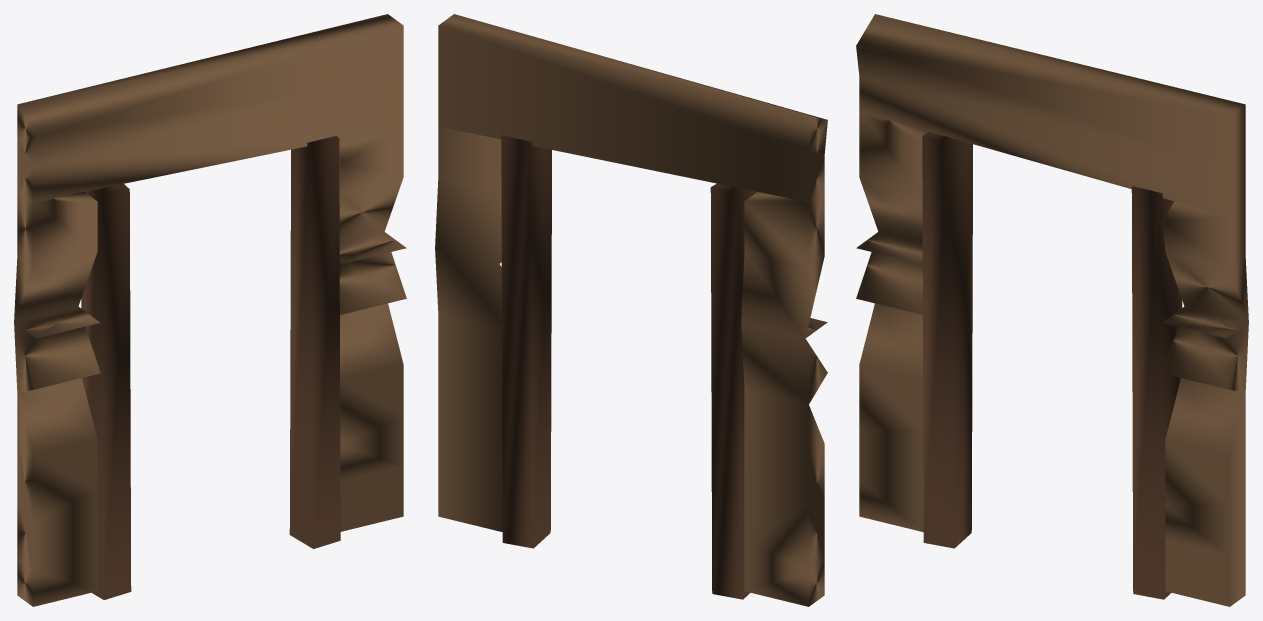
File: wall_log_door_lod1.glb
The picture shows the model from 3 angles, left to right: view 1: azimuth 30°, elevation 25°; view 2: azimuth 150°, elevation 25°; view 3: azimuth 330°, elevation 25°; orthographic projection.
Size of the model in its own units: 2.3 by 2.96 by 0.24.
